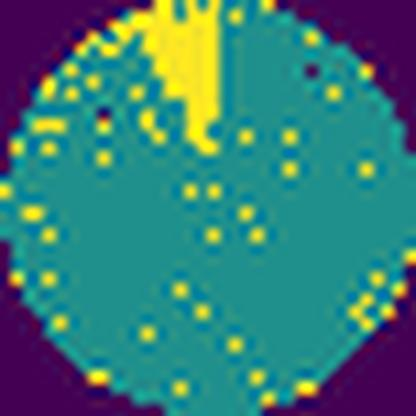Loc: (106, 0, 223, 154)
